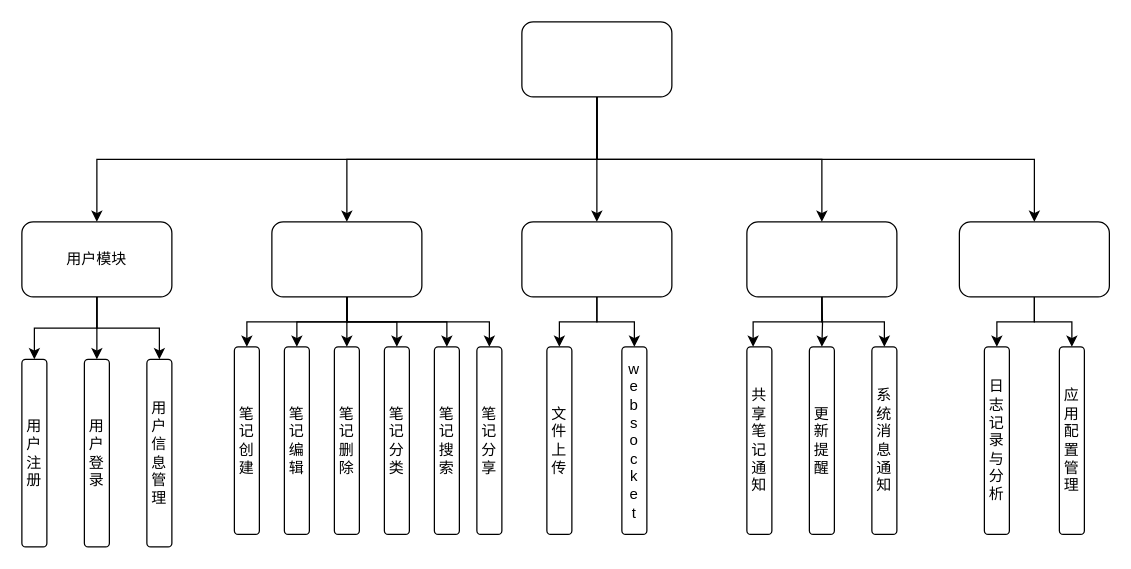
The diagram is 1131 pixels wide and 569 high, and some of its shapes have lost their labels. Each missing label, with the box of its shape:
云笔记平台架构: (521, 21, 672, 97)
文件存储模块: (521, 221, 672, 297)
消息通知模块: (746, 221, 897, 297)
笔记模块: (271, 221, 422, 297)
配置与监控模块: (958, 221, 1109, 297)
